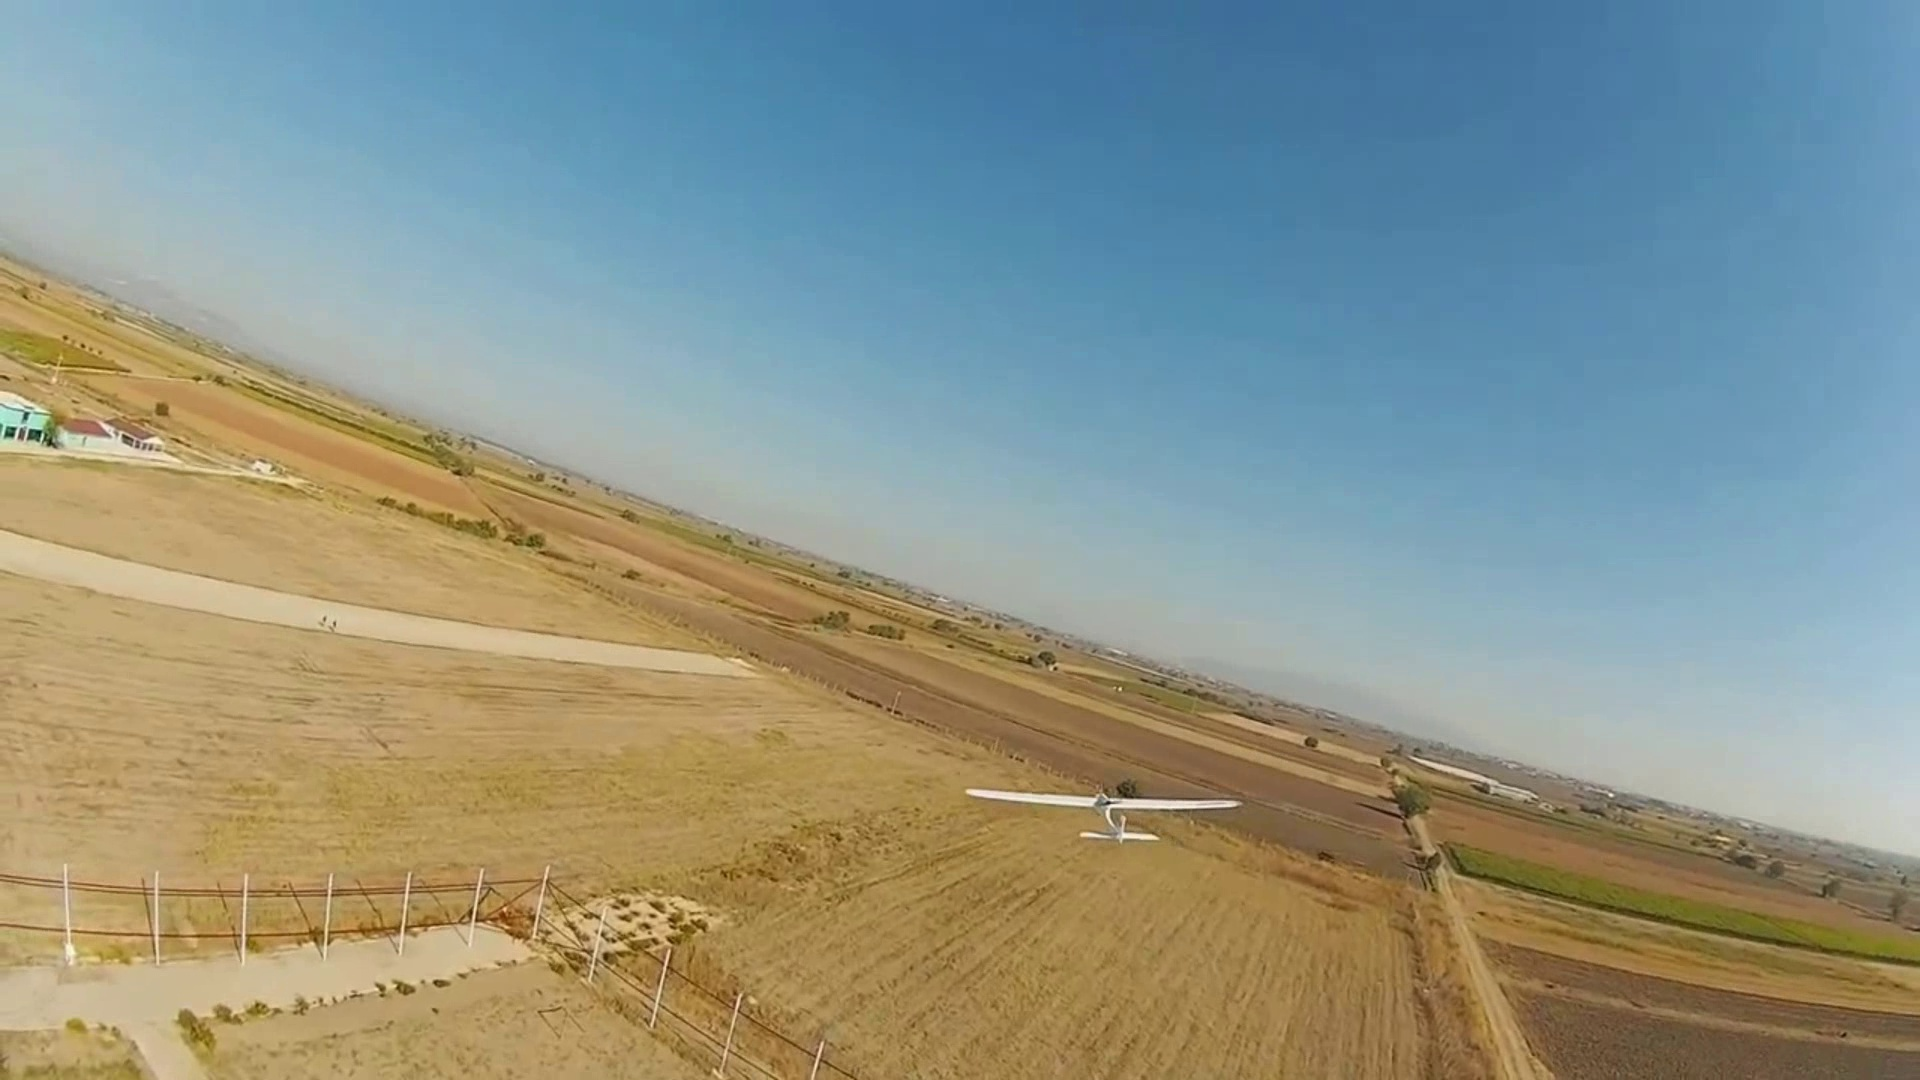airplane: (967, 785, 1246, 836)
